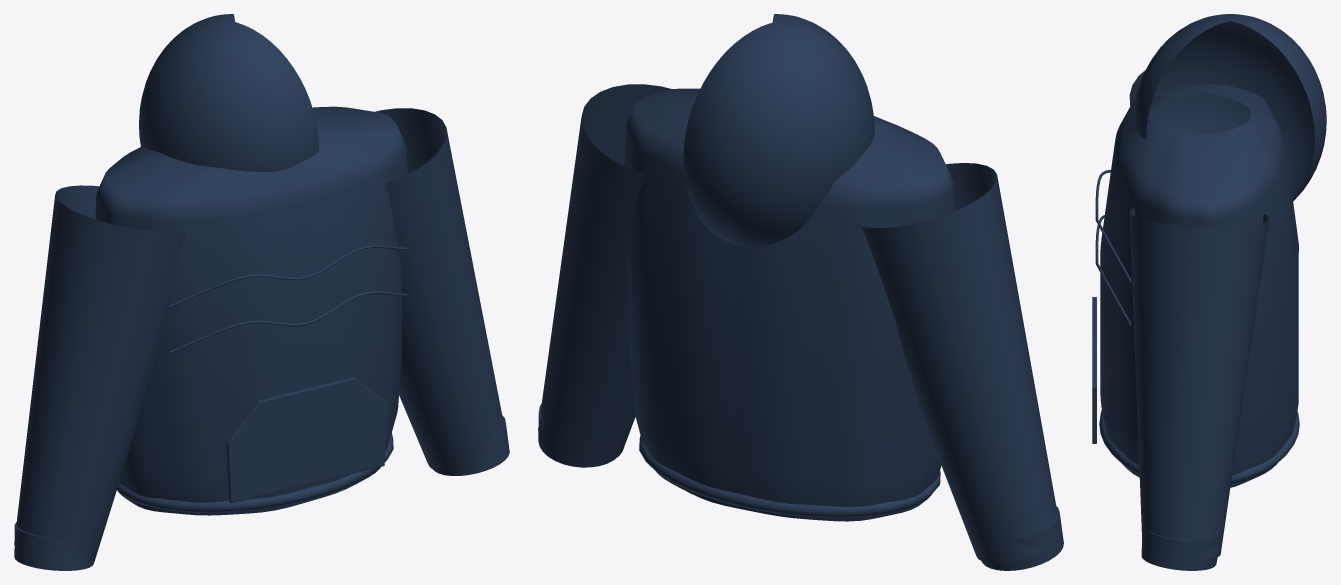
The model's file is hoodie-indigo-homme.glb.
3 renders of one model, left to right at view 1: azimuth 30°, elevation 25°; view 2: azimuth 150°, elevation 25°; view 3: azimuth 270°, elevation 25°, orthographic. The views are drawn at different scales.
Visible parts, largest first — view 1: hoodie-indigo, long-sleeve (×2); view 2: hoodie-indigo, long-sleeve (×2); view 3: hoodie-indigo, long-sleeve.
Boxes of the visible parts, x1,y1,x2,y2 form: hoodie-indigo: (14,14,509,570); long-sleeve (×2): (14,108,503,563); hoodie-indigo: (538,14,1063,570); long-sleeve (×2): (538,84,1056,562); hoodie-indigo: (1092,14,1326,570); long-sleeve: (1129,207,1269,559).
Size of the model in its own units: 0.7702 by 0.7203 by 0.341.
